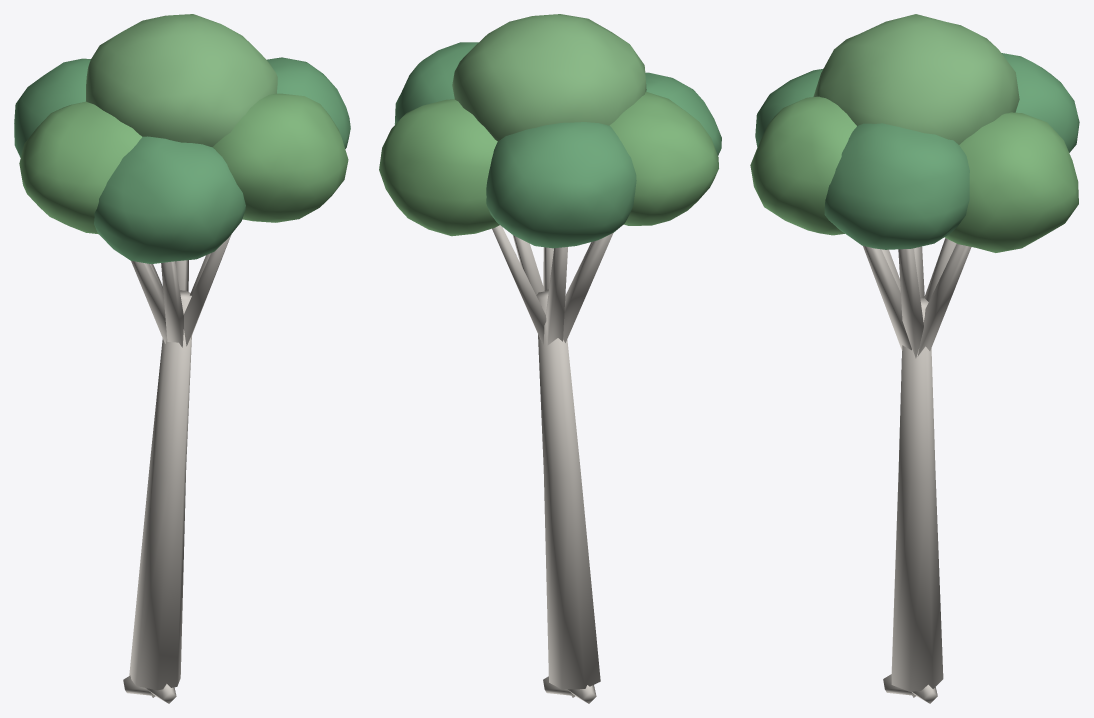
File: birch.glb
3 views of the same model, side by side, from view 1: azimuth 30°, elevation 25°; view 2: azimuth 150°, elevation 25°; view 3: azimuth 270°, elevation 25° (orthographic). The views are drawn at different scales.
Parts seen in each view (by area): view 1: birch; view 2: birch; view 3: birch.
Boxes of the visible parts, box(x1,y1,x2,y2) form: birch: box(14, 14, 350, 703); birch: box(379, 14, 721, 703); birch: box(750, 14, 1079, 703).
Size of what is drawn, in the model's own units: 6.33 by 13 by 5.68.
